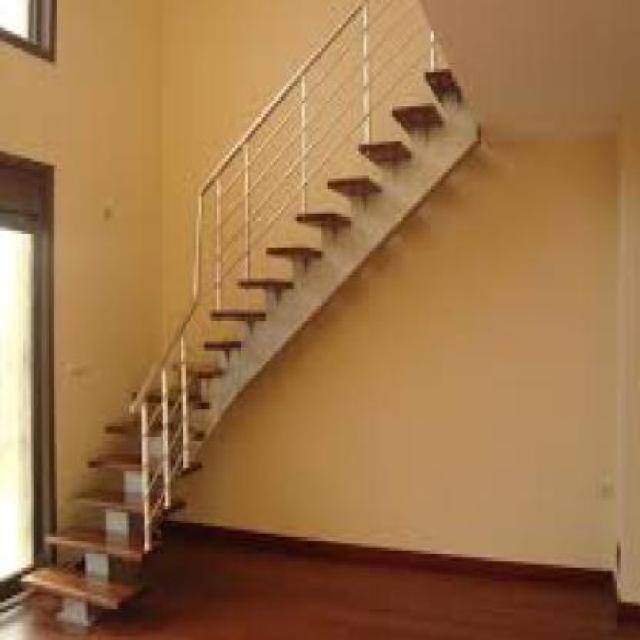stair: (10, 10, 512, 633)
